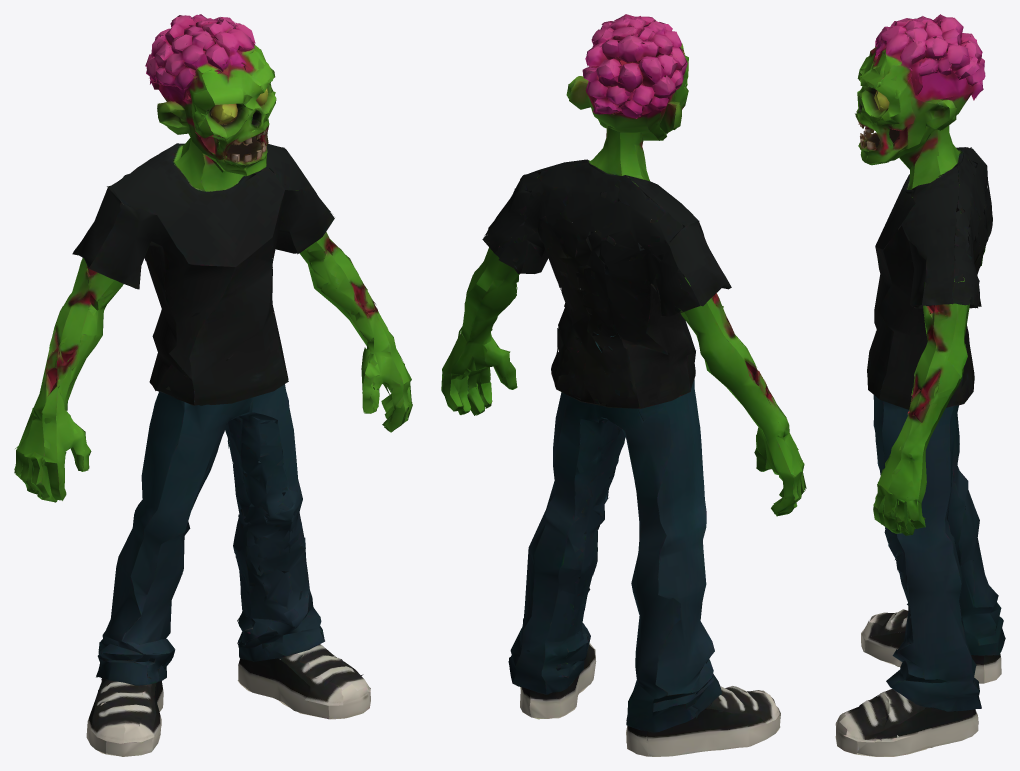
File: zumbi_zomot.obj
3 views of the same model, side by side, from view 1: azimuth 30°, elevation 25°; view 2: azimuth 150°, elevation 25°; view 3: azimuth 270°, elevation 25° (orthographic). The views are drawn at different scales.
Parts seen in each view (by area): view 1: geometry_0; view 2: geometry_0; view 3: geometry_0.
Part boxes in pixels (x1,y1,x2,y2): geometry_0: [14, 14, 412, 756]; geometry_0: [441, 14, 806, 756]; geometry_0: [835, 14, 1005, 756].
Bounding box in the file's own units: 0.5647 × 1 × 0.2291.
Materials: 1 (1 with a texture image).
